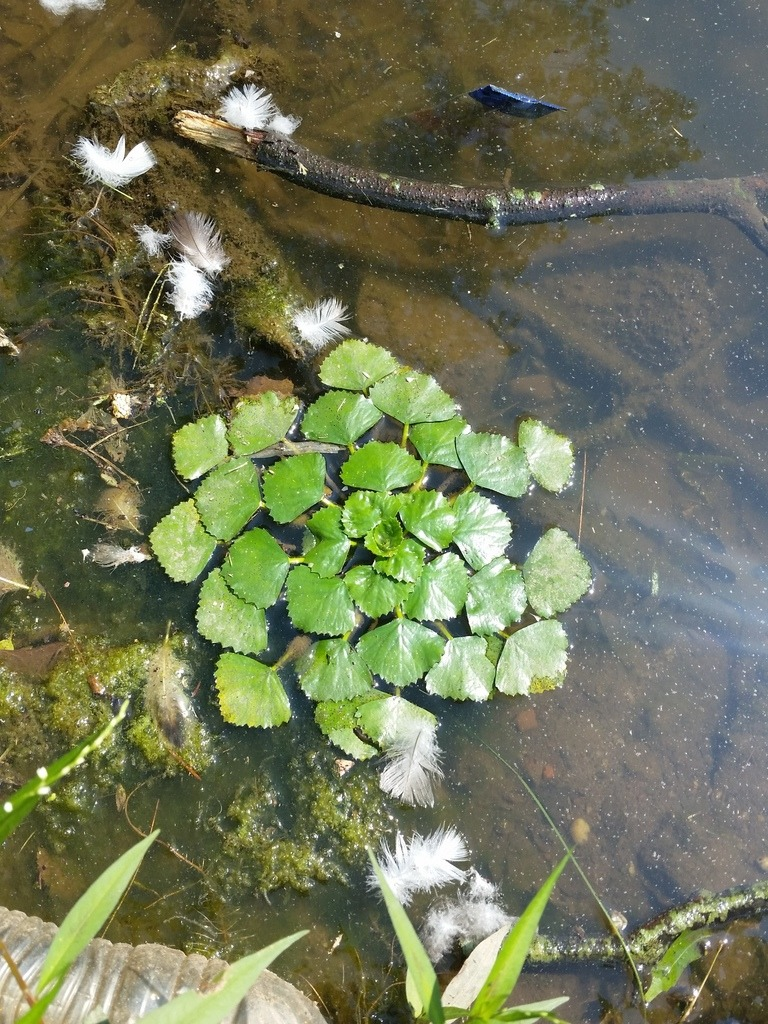water chestnut: (146, 336, 595, 808)
